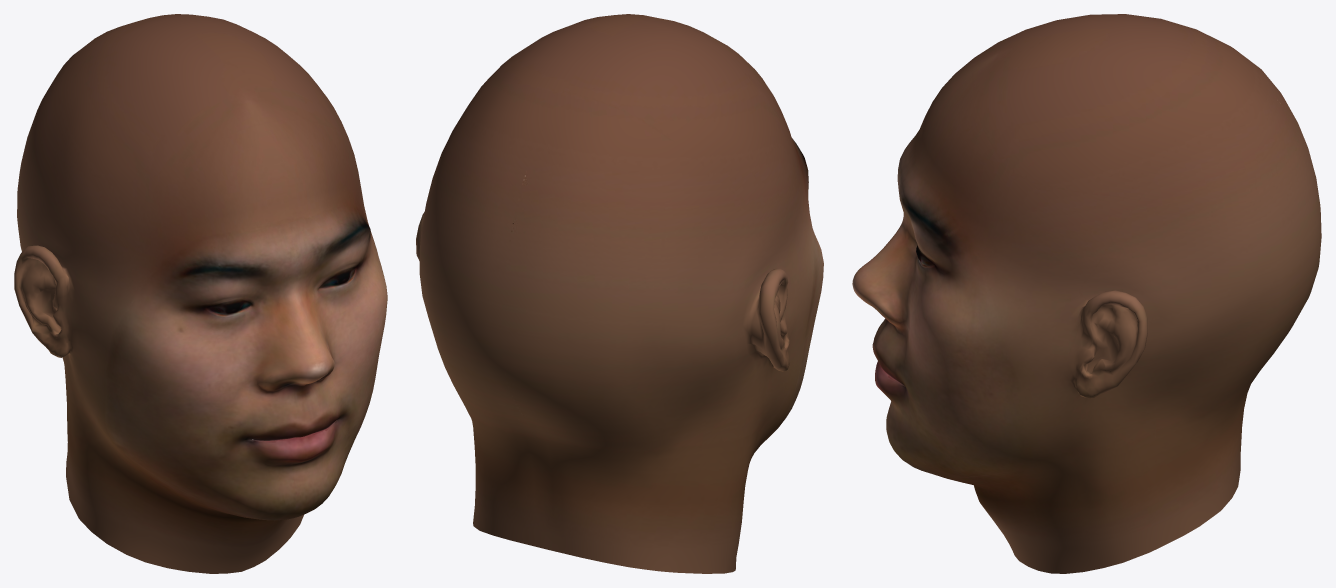
3 views of the same model, side by side, from view 1: azimuth 30°, elevation 25°; view 2: azimuth 150°, elevation 25°; view 3: azimuth 270°, elevation 25° (orthographic). The views are drawn at different scales.
Visible parts, largest first — view 1: HeadHires; view 2: HeadHires; view 3: HeadHires.
Part boxes in pixels (x1,y1,x2,y2): HeadHires: [14, 14, 387, 573]; HeadHires: [416, 14, 823, 573]; HeadHires: [852, 14, 1321, 573].
Bounding box in the file's own units: 195 × 283 × 231.
1 material, 1 textured.
